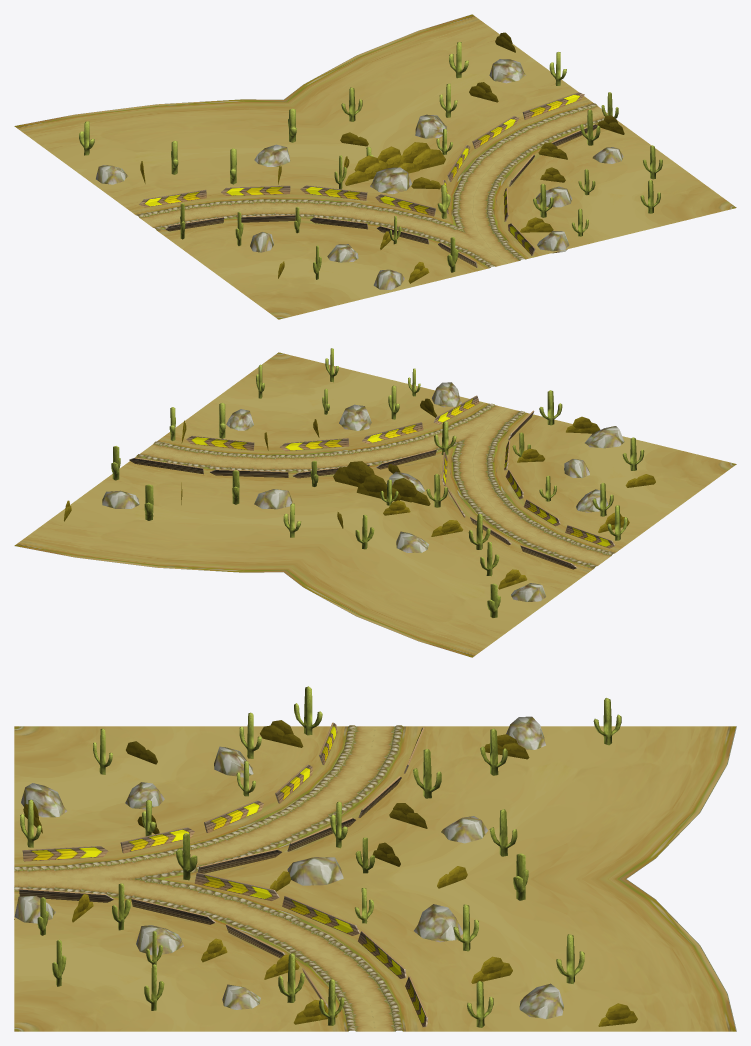
The model's file is DesertRoad01_BothCurve.FBX.
3 renders of one model, top to bottom at view 1: azimuth 30°, elevation 25°; view 2: azimuth 150°, elevation 25°; view 3: azimuth 270°, elevation 25°, orthographic. The views are drawn at different scales.
Parts seen in each view (by area): view 1: Road, Stone (×5), Fence (×5), Bush (×2); view 2: Road, Stone (×7), Bush (×3), Fence (×3); view 3: Road, Stone (×11), Fence (×9), Cactus (×7), Bush (×4).
Boxes of the visible parts, x1=… form: Road: x1=14, y1=14, x2=736, y2=319; Stone (×5): x1=254, y1=59, x2=569, y2=253; Fence (×5): x1=139, y1=92, x2=584, y2=216; Bush (×2): x1=345, y1=142, x2=445, y2=185; Road: x1=14, y1=352, x2=736, y2=657; Stone (×7): x1=102, y1=382, x2=624, y2=601; Bush (×3): x1=333, y1=461, x2=430, y2=505; Fence (×3): x1=186, y1=422, x2=423, y2=451; Road: x1=14, y1=725, x2=736, y2=1031; Stone (×11): x1=14, y1=716, x2=563, y2=1019; Fence (×9): x1=19, y1=800, x2=406, y2=978; Cactus (×7): x1=278, y1=686, x2=621, y2=1027; Bush (×4): x1=260, y1=720, x2=637, y2=1026.
Bounding box in the file's own units: 10000 × 916 × 10006.
